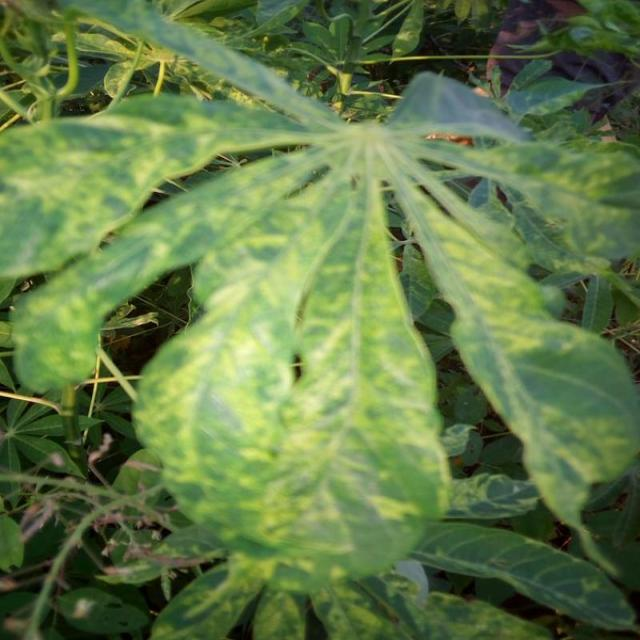cassava leaf: (1, 9, 638, 626), (130, 160, 452, 589)
